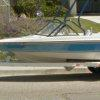Boat: (1, 18, 100, 85)
